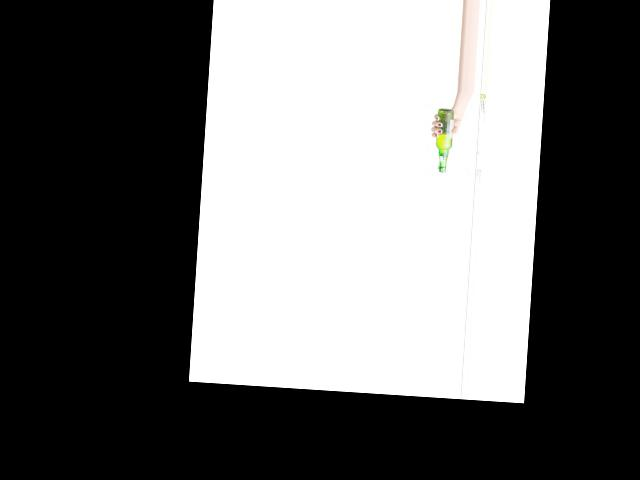beer: (434, 108, 455, 173)
